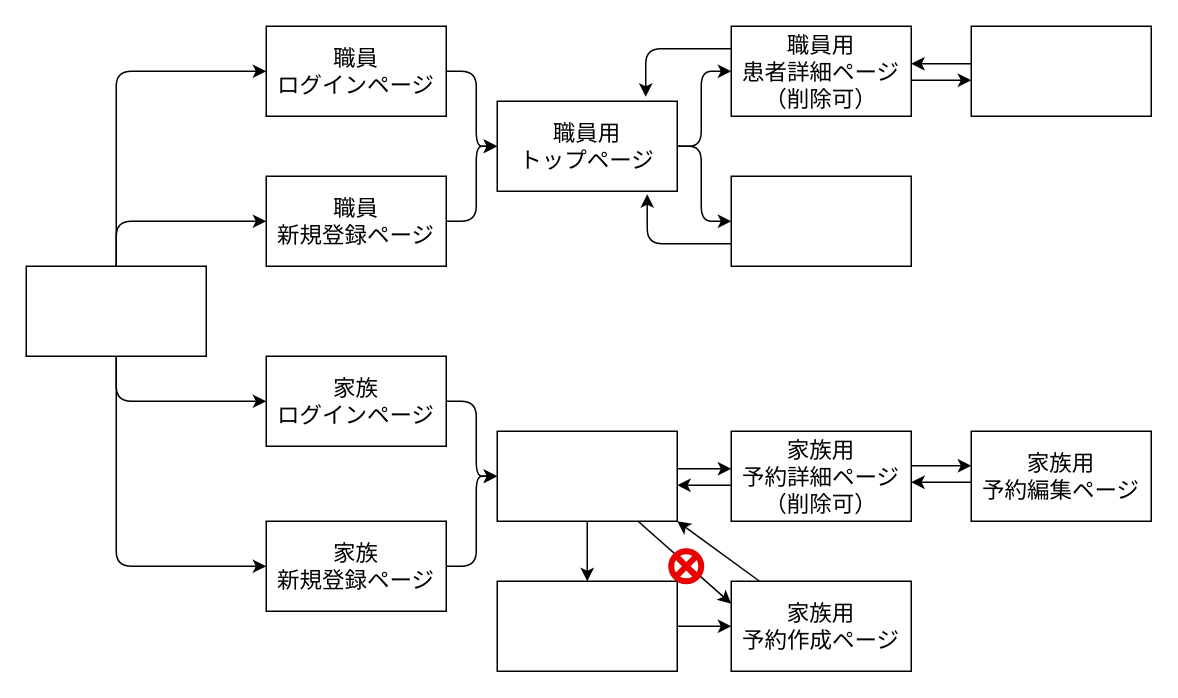
This 1178x698 diagram has some shape labels left out. The centre of each missing label's shape, as x and y in pixels:
"トップページ" belongs at pixel 115 310.
"家族用 予約一覧ページ" belongs at pixel 586 475.
"家族用 患者検索ページ" belongs at pixel 586 625.
"職員用 患者入力ページ" belongs at pixel 820 220.
"職員用 患者編集ページ" belongs at pixel 1060 70.
